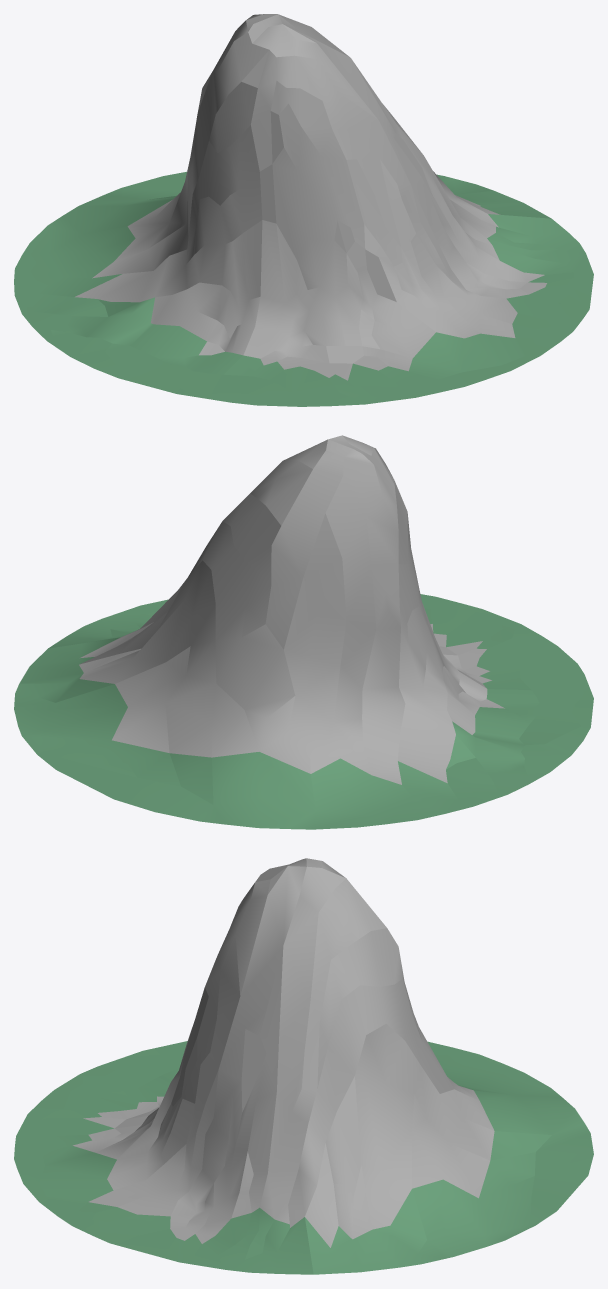
The model's file is rock_beach_hero_E.fbx.
3 views of the same model, one above another, from view 1: azimuth 30°, elevation 25°; view 2: azimuth 150°, elevation 25°; view 3: azimuth 270°, elevation 25° (orthographic).
Visible parts, largest first — view 1: rock_beach_hero_E; view 2: rock_beach_hero_E; view 3: rock_beach_hero_E.
Boxes of the visible parts, x1,y1,x2,y2 form: rock_beach_hero_E: [14, 14, 593, 406]; rock_beach_hero_E: [14, 435, 593, 829]; rock_beach_hero_E: [14, 858, 593, 1274].
Bounding box in the file's own units: 169 × 88.09 × 169.
